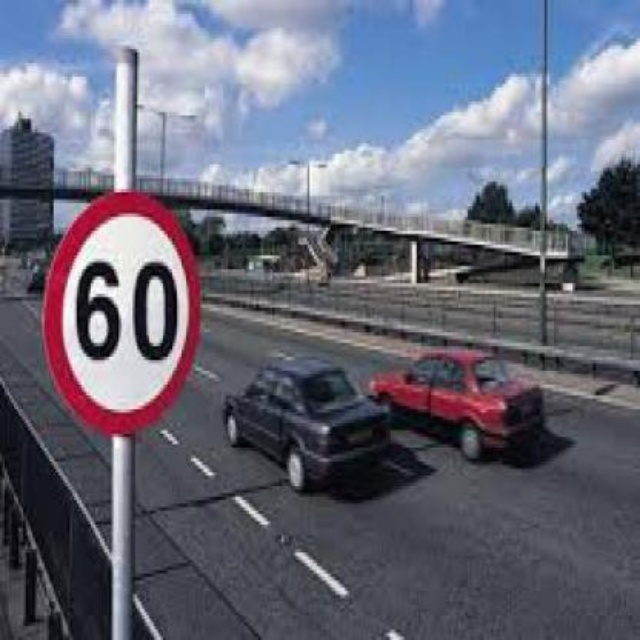Tốc độ tối đa cho phép 80km/h: (52, 195, 196, 428)
